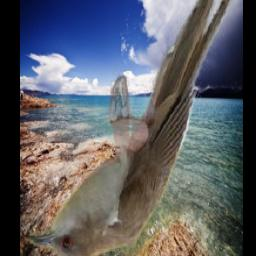Cuckoo: (29, 0, 237, 256)
